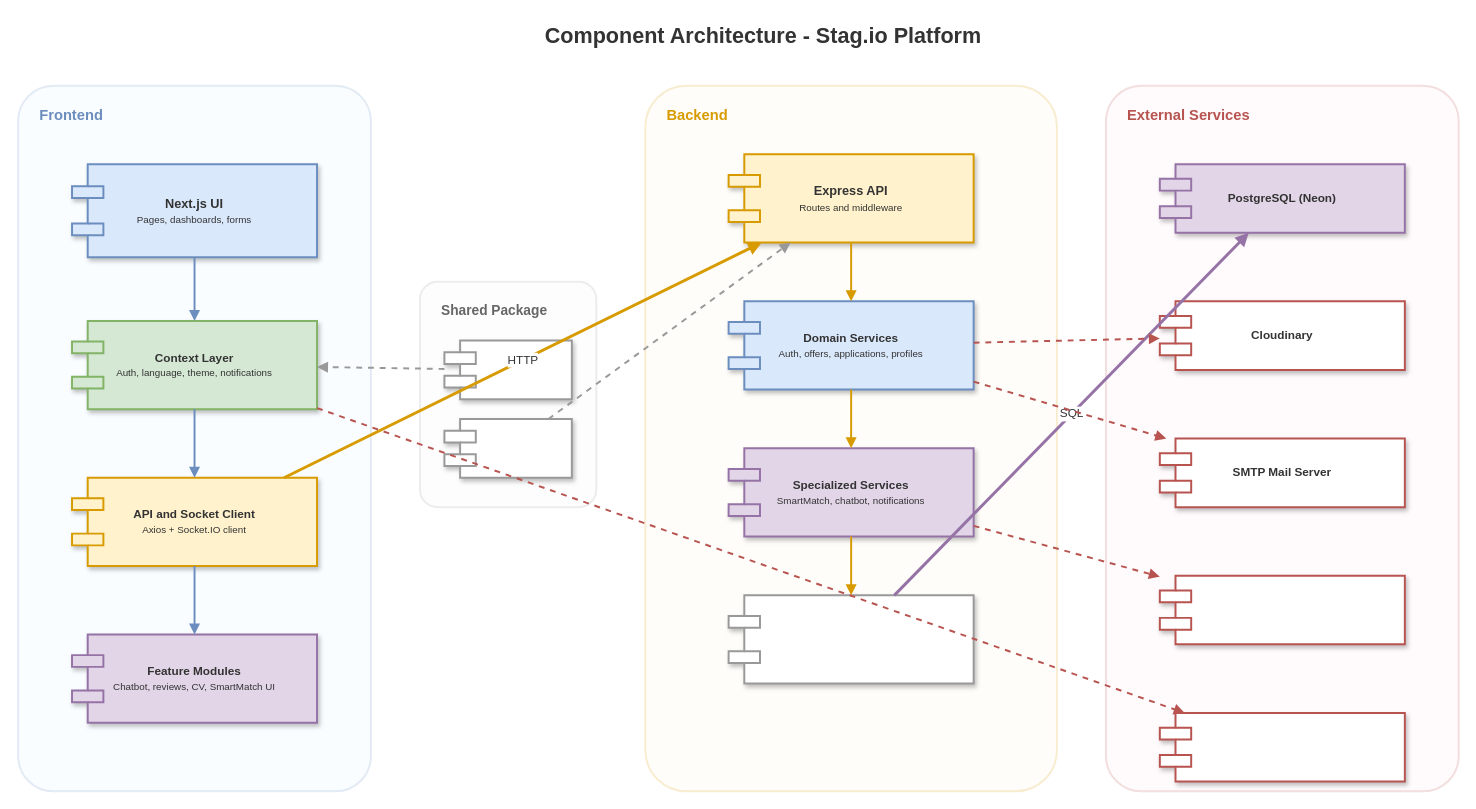
Image size: 1476x809. Some labels were removed from this diagram. Each missing label, with the centre of its shape:
"Cloudflare Turnstile" belongs at point 1282,748.
"Constants Roles, statuses, enums" belongs at point 508,449.
"Data Access Layer Drizzle ORM and schema" belongs at point 851,640.
"Google Gemini API" belongs at point 1282,611.
"Types Interfaces and contracts" belongs at point 508,371.
